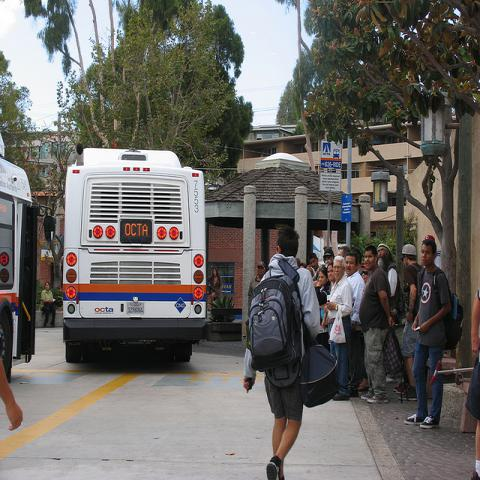bus: (63, 143, 206, 363), (1, 136, 38, 366)
